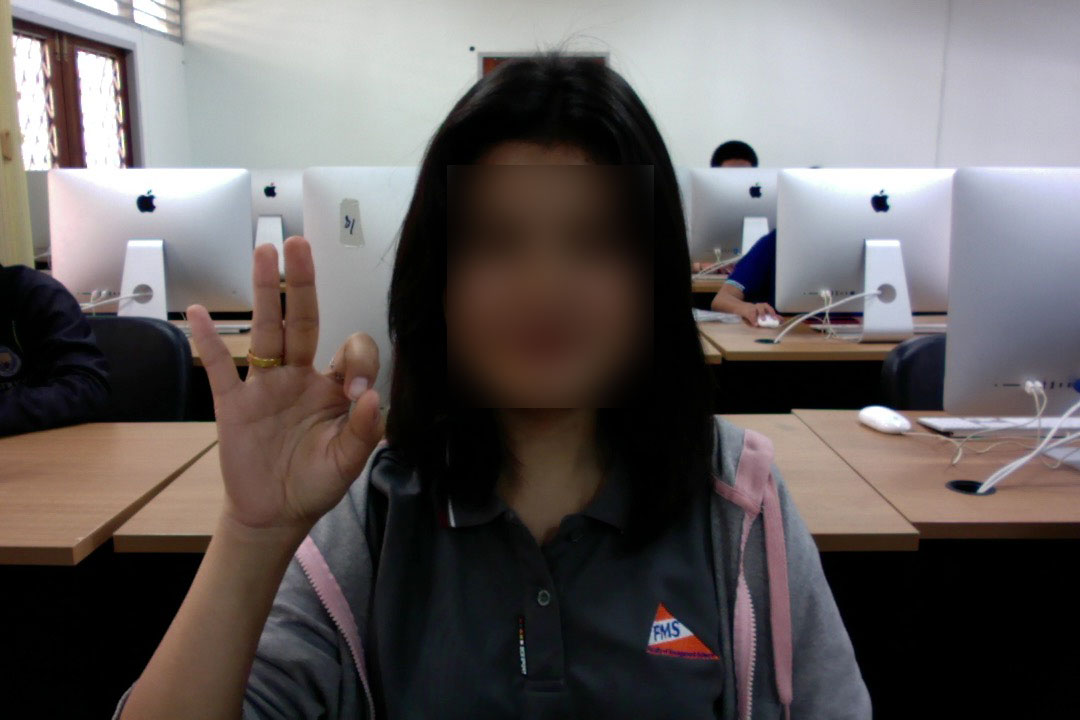for: (173, 227, 392, 534)
